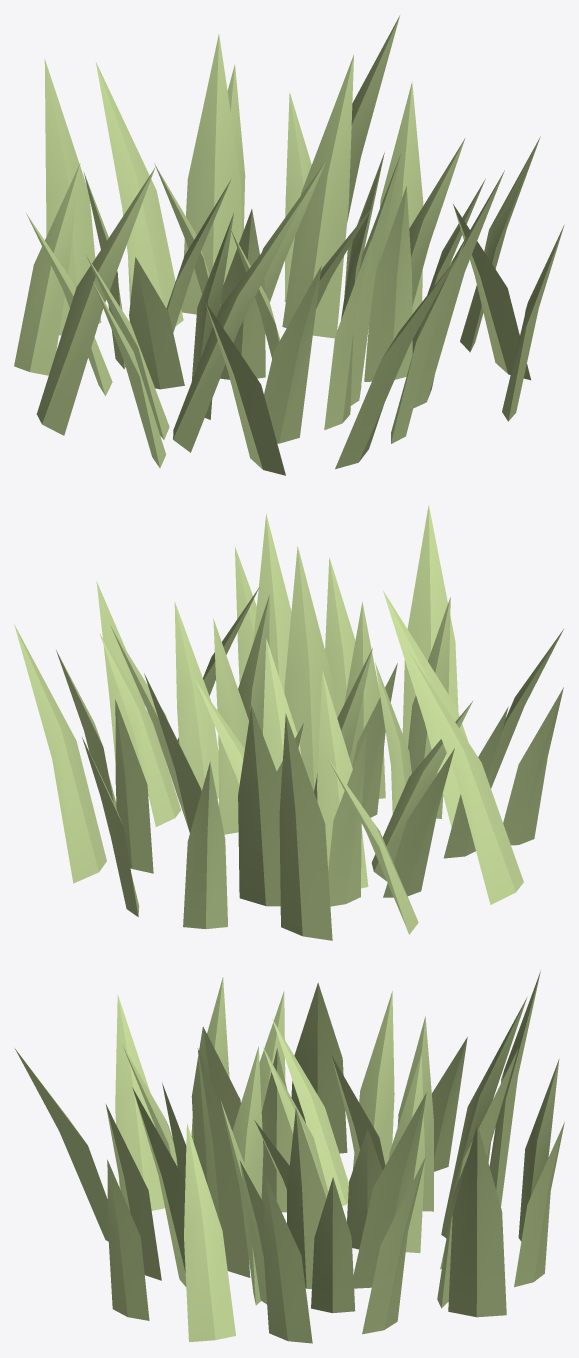
File: grass.fbx
3 views of the same model, one above another, from view 1: azimuth 30°, elevation 25°; view 2: azimuth 150°, elevation 25°; view 3: azimuth 270°, elevation 25° (orthographic). The views are drawn at different scales.
Visible parts, largest first — view 1: grass; view 2: grass; view 3: grass.
Part boxes in pixels (<box>): grass: <box>14,15,564,475</box>; grass: <box>14,505,563,940</box>; grass: <box>14,970,564,1343</box>.
Size of the model in its own units: 2.31 by 1.21 by 2.52.
